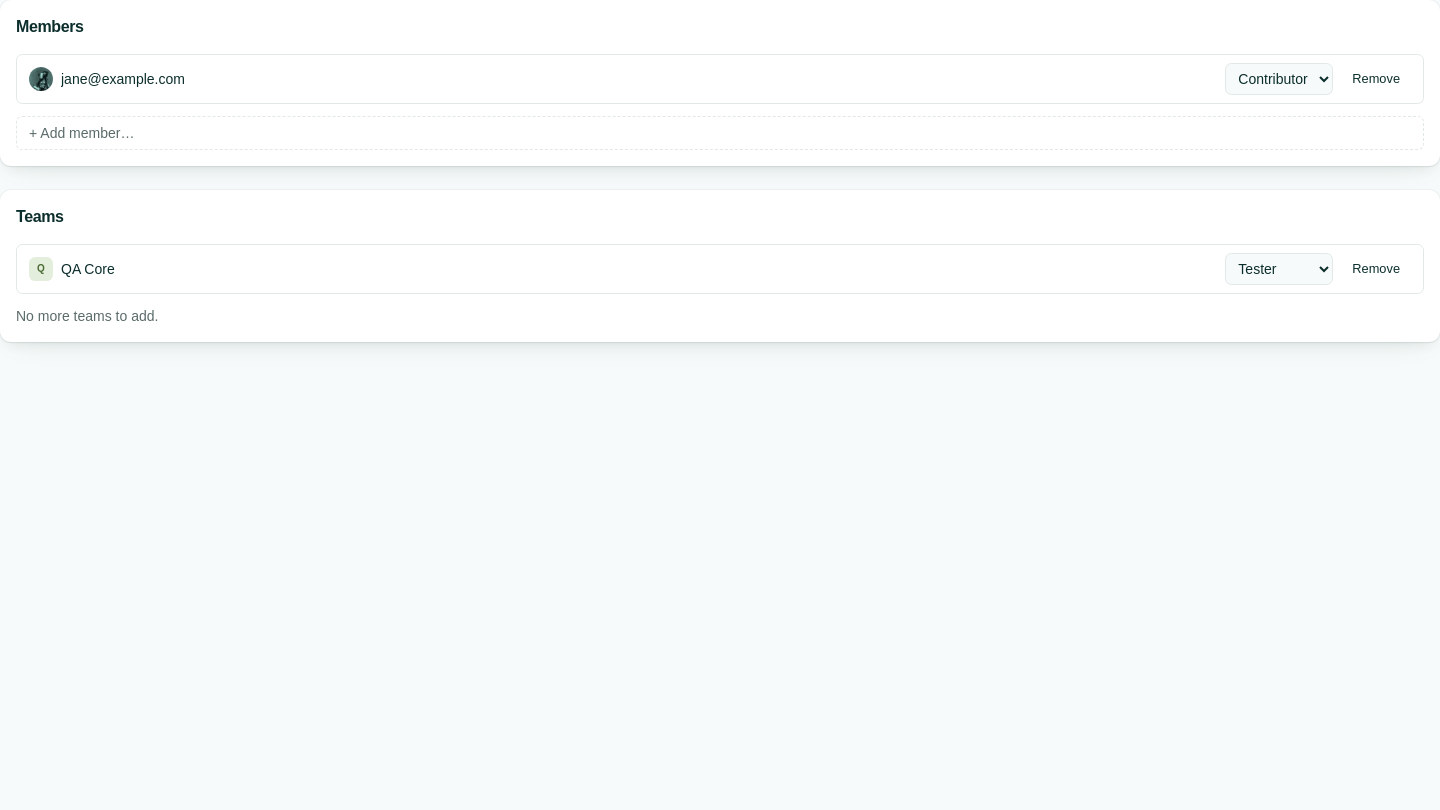
Scenario: ProjectMembersPage › remove a team's role assignment › does not remove immediately — opens a confirmation dialog naming the team first
The image size is (1440, 810).
Expected: the text "QA Core" is shown, [61,259,115,279]
Click the button with aria-label "remove qa core": (1376, 269) [1341,255,1411,283]
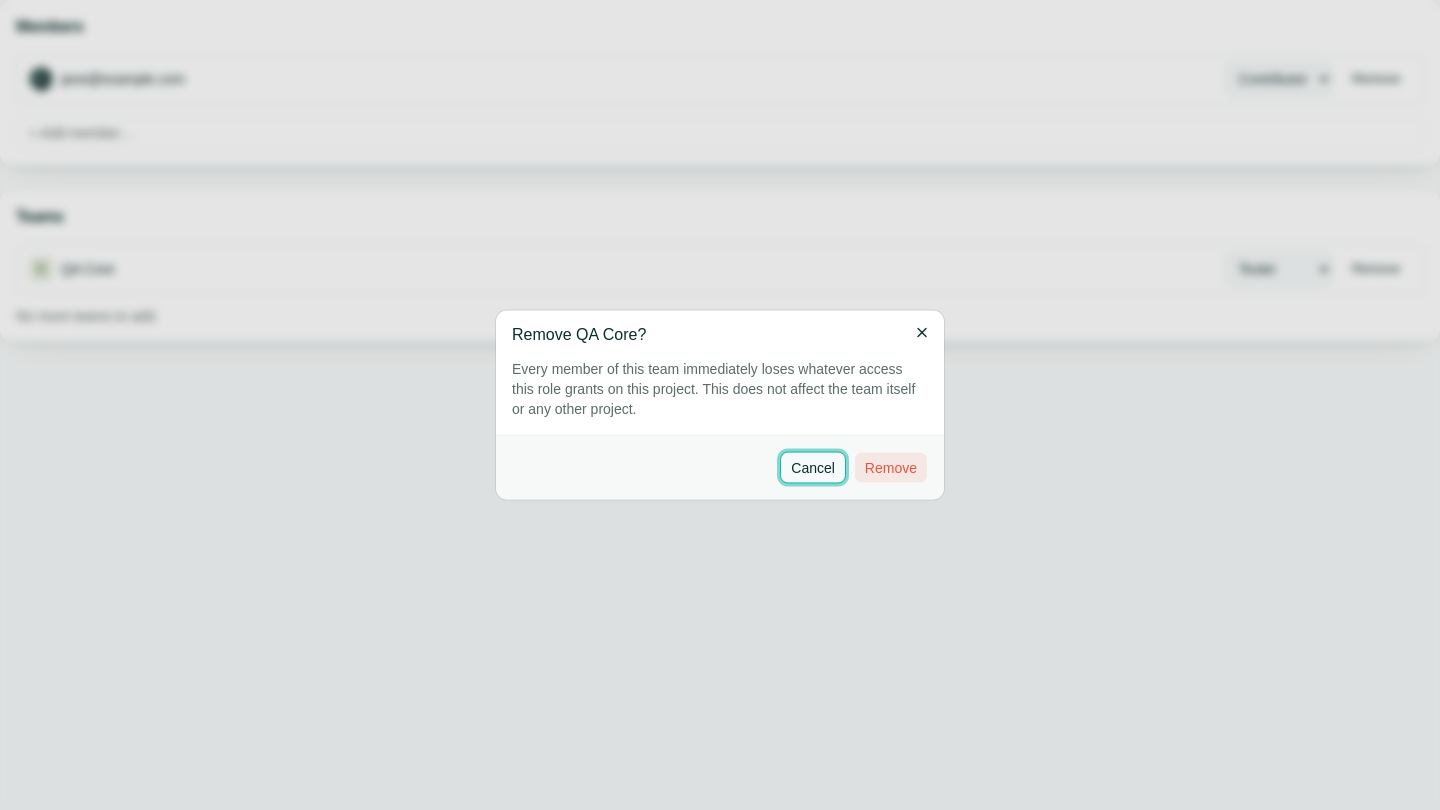
Expected: the dialog shows "QA Core", [512,326,646,342]
